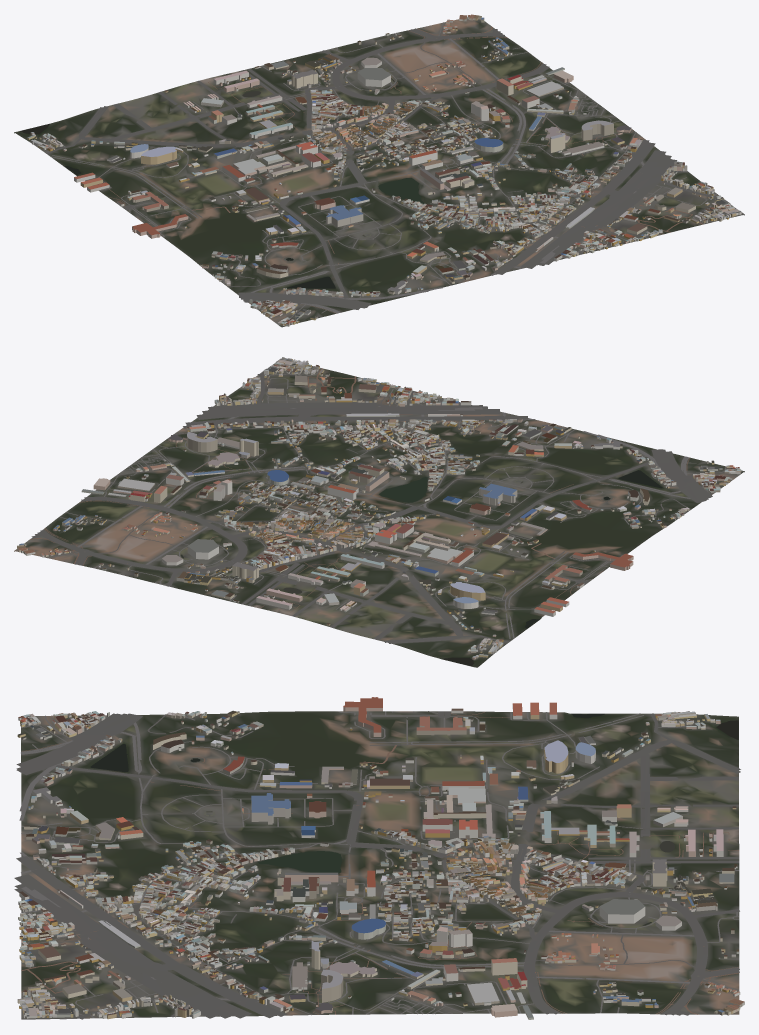
3 views of the same model, one above another, from view 1: azimuth 30°, elevation 25°; view 2: azimuth 150°, elevation 25°; view 3: azimuth 270°, elevation 25° (orthographic). The views are drawn at different scales.
Visible parts, largest first — view 1: ground, buildings, roads, water; view 2: ground, buildings, roads, water; view 3: ground, buildings, roads, water.
Boxes of the visible parts, x1=… form: ground: x1=14, y1=17, x2=744, y2=327; buildings: x1=27, y1=14, x2=741, y2=326; roads: x1=46, y1=22, x2=744, y2=322; water: x1=20, y1=78, x2=424, y2=288; ground: x1=14, y1=362, x2=744, y2=667; buildings: x1=17, y1=357, x2=741, y2=659; roads: x1=29, y1=358, x2=735, y2=648; water: x1=181, y1=470, x2=662, y2=666; ground: x1=21, y1=711, x2=739, y2=1019; buildings: x1=17, y1=697, x2=744, y2=1019; roads: x1=14, y1=711, x2=740, y2=1019; water: x1=90, y1=713, x2=738, y2=928.
Bounding box in the file's own units: 1477 × 53.73 × 1426.
